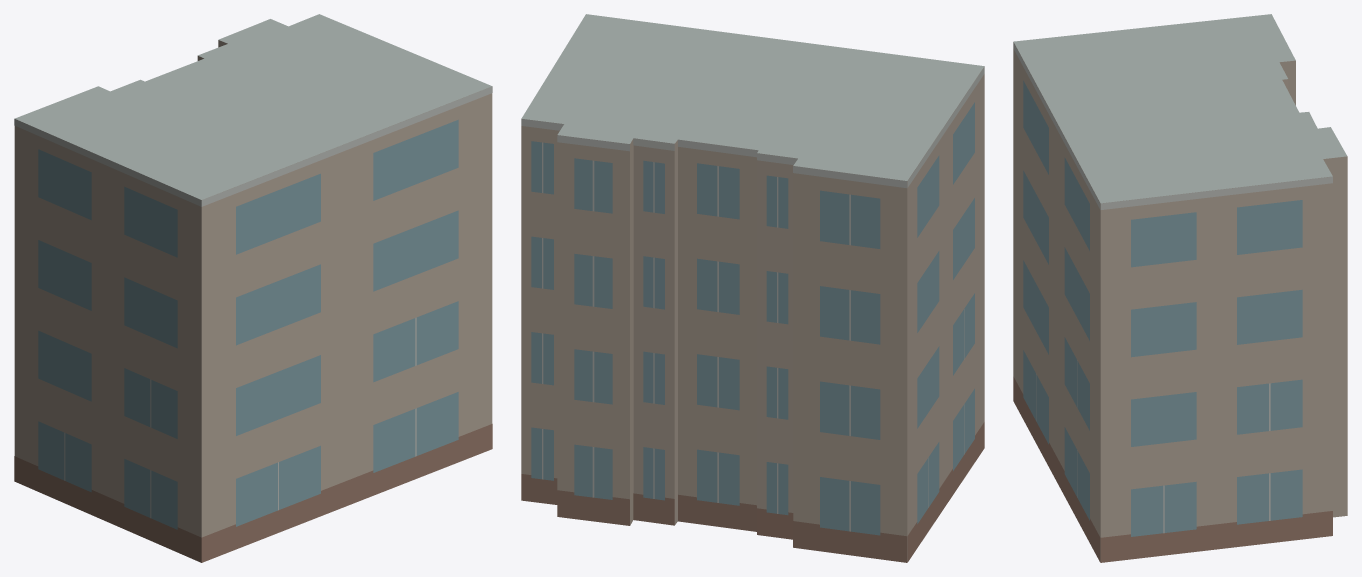
Rendered from survey-upis-32804700.glb.
The picture shows the model from 3 angles, left to right: view 1: azimuth 30°, elevation 25°; view 2: azimuth 150°, elevation 25°; view 3: azimuth 270°, elevation 25°; orthographic projection. The views are drawn at different scales.
Visible parts, largest first — view 1: survey-upis-32804700.tmp; view 2: survey-upis-32804700.tmp; view 3: survey-upis-32804700.tmp.
Boxes of the visible parts, bbox=[...] form: survey-upis-32804700.tmp: bbox=[14, 14, 492, 562]; survey-upis-32804700.tmp: bbox=[521, 14, 984, 562]; survey-upis-32804700.tmp: bbox=[1013, 14, 1347, 562].
Bounding box in the file's own units: 14.59 × 12.9 × 10.88.
